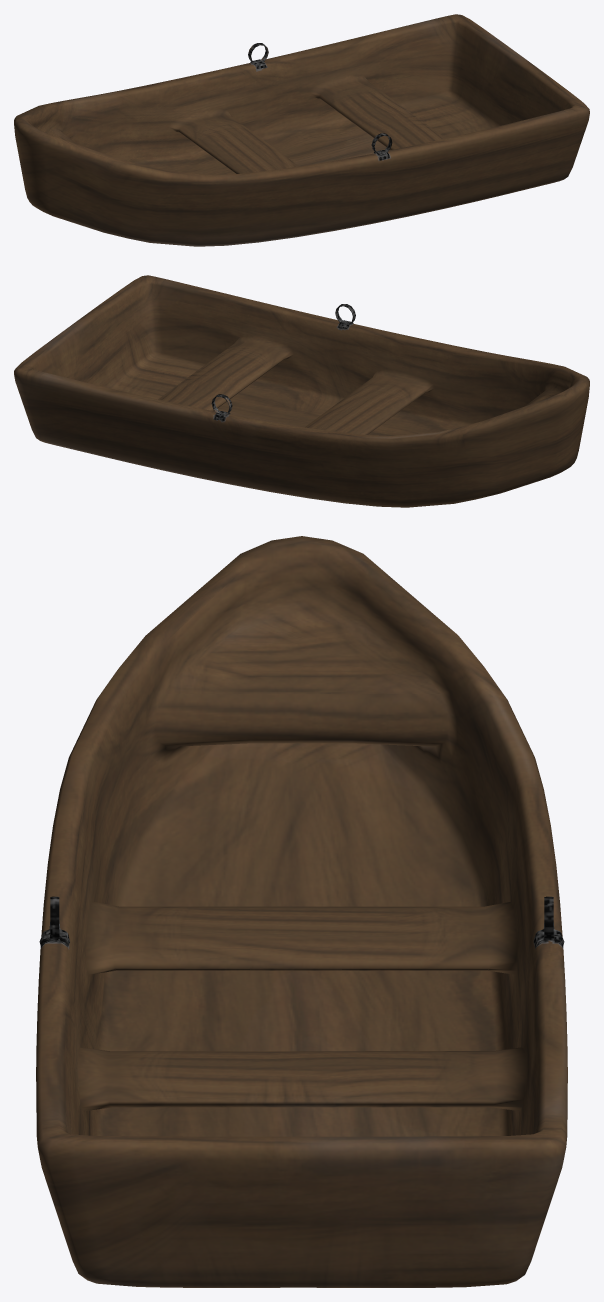
The model's file is Boat.fbx.
The picture shows the model from 3 angles, top to bottom: view 1: azimuth 30°, elevation 25°; view 2: azimuth 150°, elevation 25°; view 3: azimuth 270°, elevation 25°; orthographic projection. The views are drawn at different scales.
Visible parts, largest first — view 1: pTorus3; view 2: pTorus3; view 3: pTorus3.
Part boxes in pixels (bbox=[...]): pTorus3: bbox=[14, 14, 589, 246]; pTorus3: bbox=[14, 275, 589, 507]; pTorus3: bbox=[36, 536, 567, 1287].
Size of the model in its own units: 13.79 by 3.55 by 6.23.
Materials: 1 (1 with a texture image).
